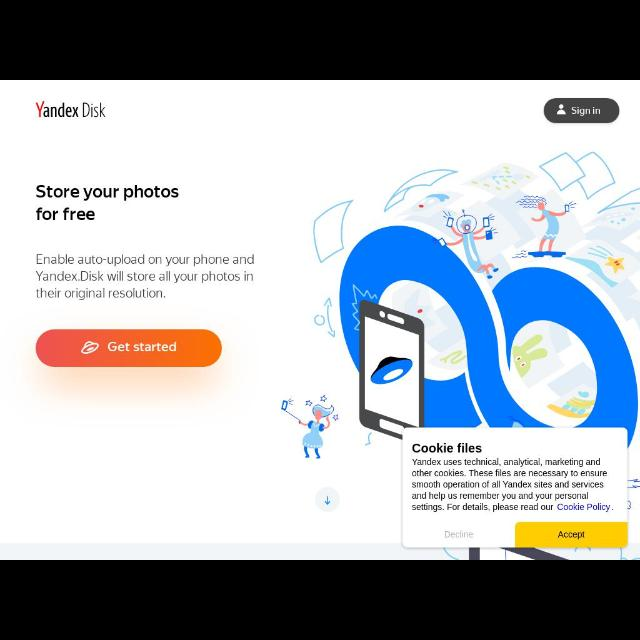icon: (82, 340, 100, 356), (555, 105, 567, 117)
iframe: (402, 429, 628, 547)
image: (277, 150, 637, 560), (36, 100, 106, 120)
link: (558, 503, 612, 511)
text: (413, 457, 612, 511), (37, 255, 257, 301), (34, 186, 180, 222), (108, 342, 178, 352), (412, 444, 482, 454), (556, 528, 588, 540), (444, 528, 474, 540), (572, 108, 602, 116)
textbutton: (35, 330, 225, 368), (514, 522, 630, 546), (545, 99, 619, 125)
